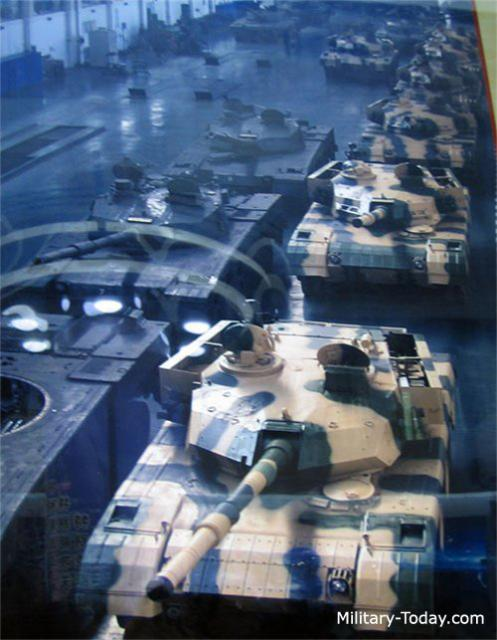tank: (104, 328, 449, 634), (69, 165, 280, 307), (300, 151, 463, 283), (183, 102, 324, 190), (358, 92, 469, 166)
